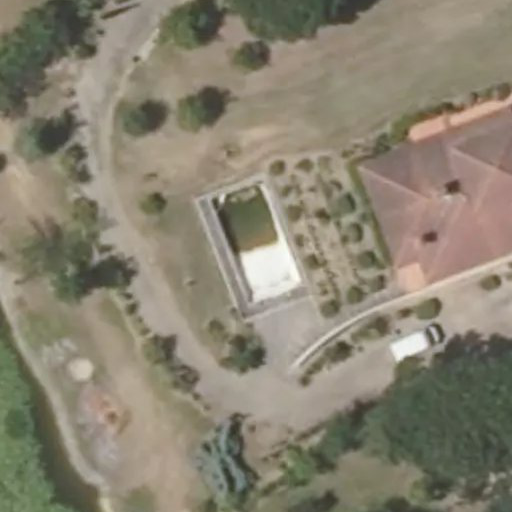pool: (209, 198, 302, 285)
